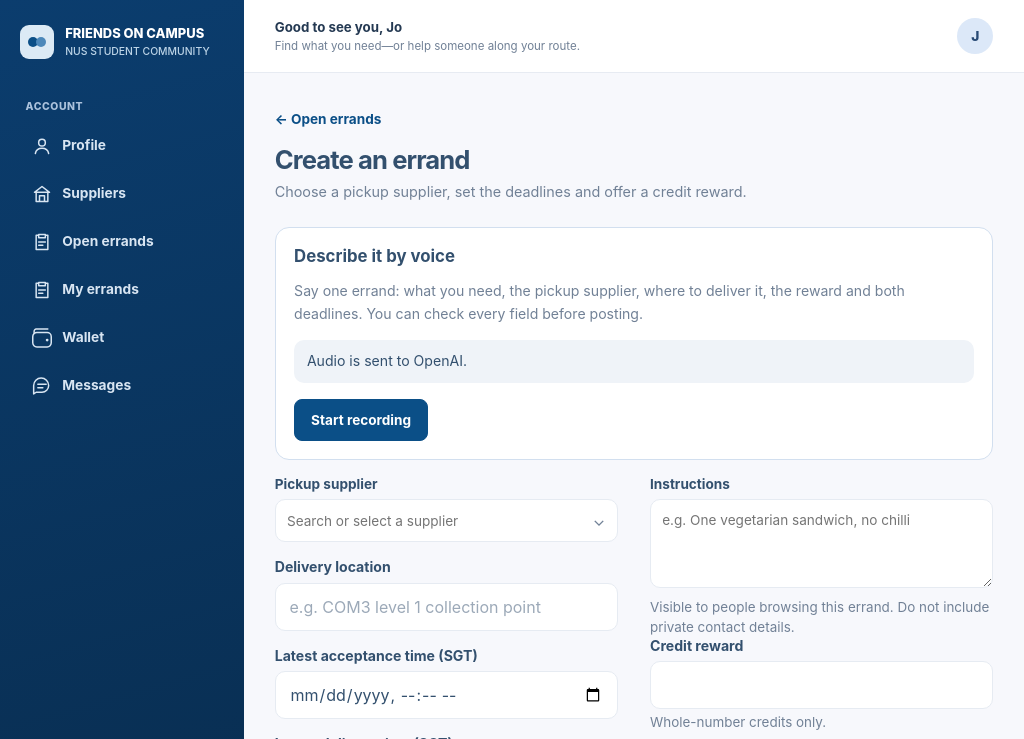
Test: Voice drafting on the errand form › clears a highlight once the requester edits that field
This screenshot has width=1024, height=739.
Click the button "Start recording". click: [361, 420]
box: [294, 399, 428, 441]
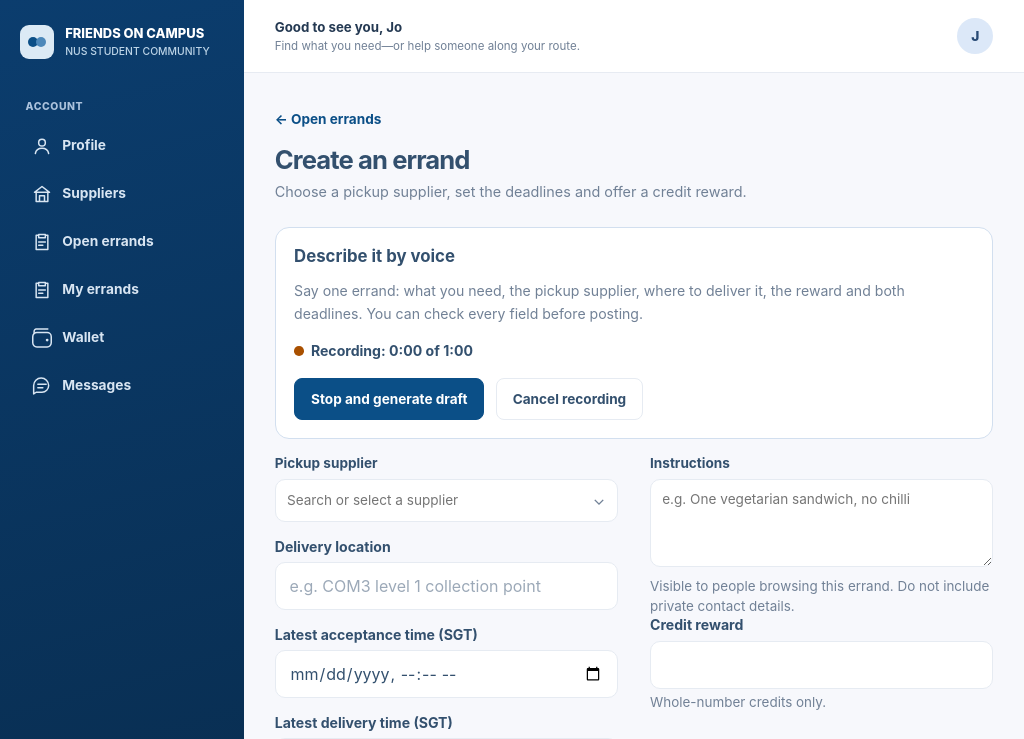
Click the button "Stop and generate draft". click: [389, 399]
box: [294, 378, 484, 420]
(page scrolled)
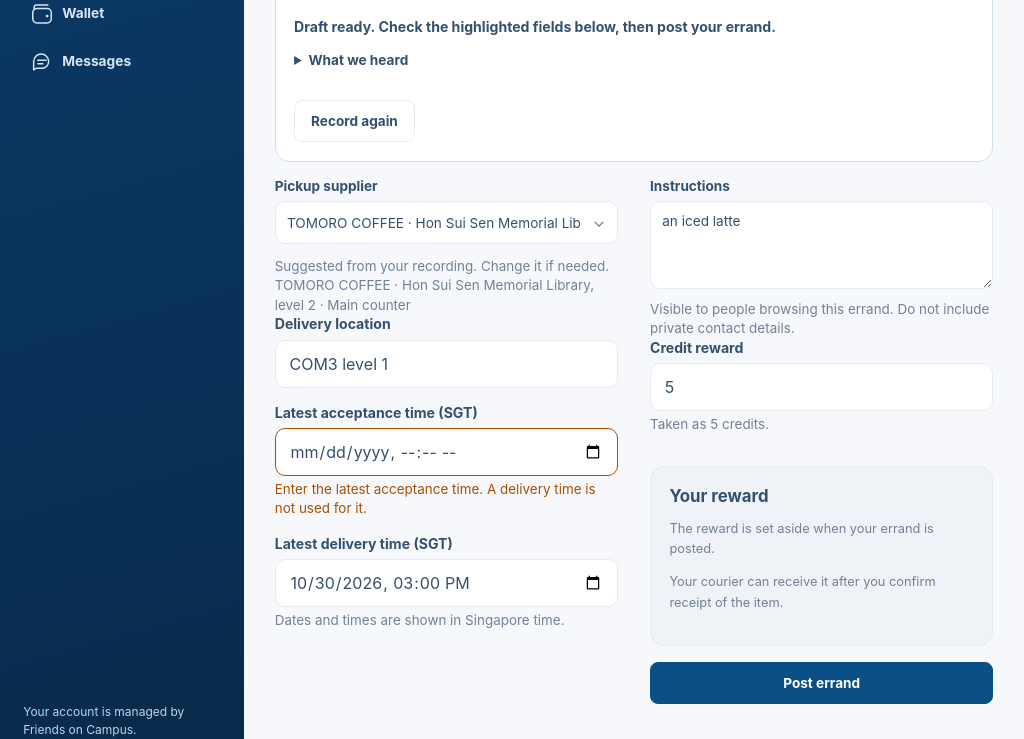
Type "2026-10-30T14:00" into the field labelled "Latest acceptance time (SGT)". click: [446, 452]
box: [275, 428, 618, 476]
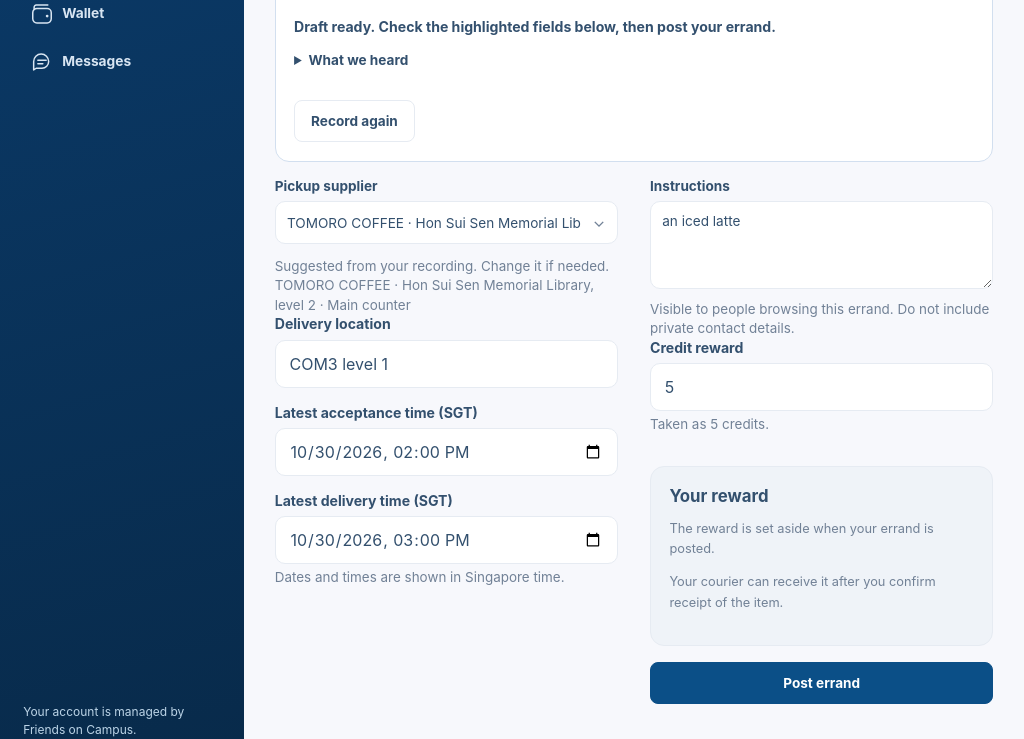
Check: the text "Enter the latest acceptance time. A delivery time is not used for it." is gone
